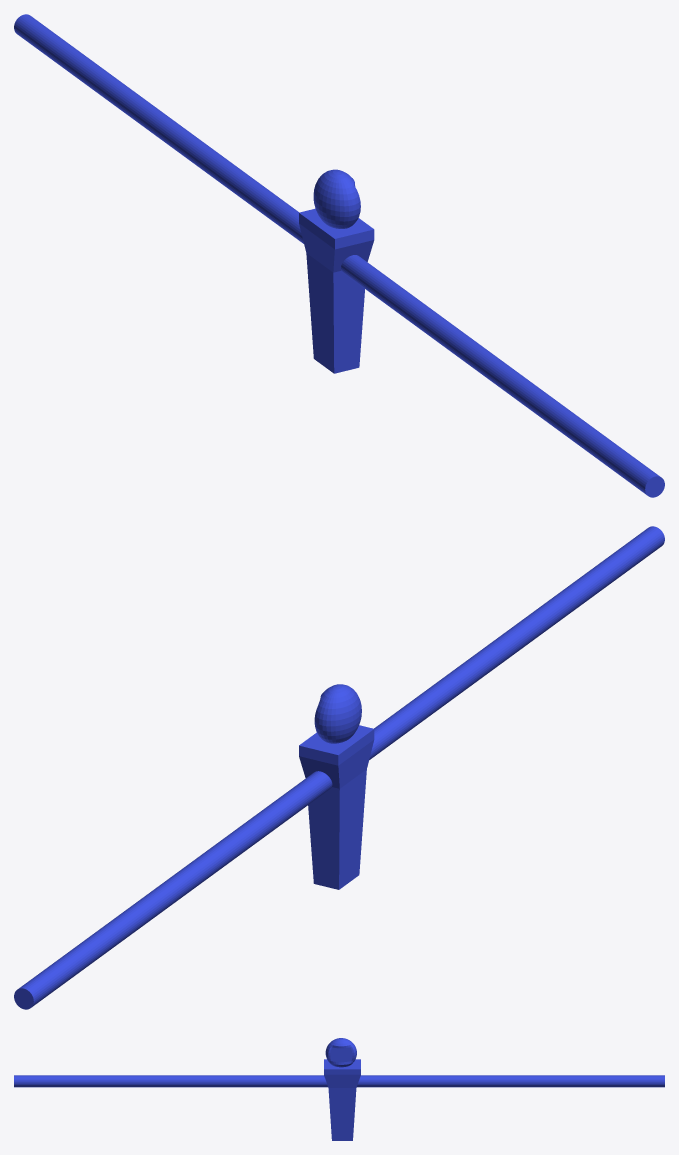
The model's file is Player_A1.glb.
The picture shows the model from 3 angles, top to bottom: view 1: azimuth 30°, elevation 25°; view 2: azimuth 150°, elevation 25°; view 3: azimuth 270°, elevation 25°; orthographic projection. The views are drawn at different scales.
Parts seen in each view (by area): view 1: Player_A1; view 2: Player_A1; view 3: Player_A1.
Part boxes in pixels (x1,y1,x2,y2): Player_A1: (14, 14, 664, 497); Player_A1: (14, 526, 664, 1009); Player_A1: (14, 1038, 664, 1140).
Size of the model in its own units: 1.57 by 7.28 by 43.39.
